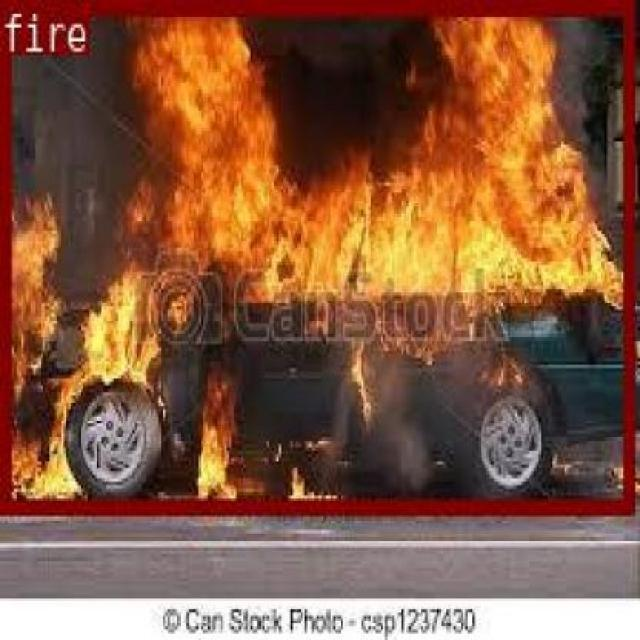Fire: (0, 0, 632, 512)
